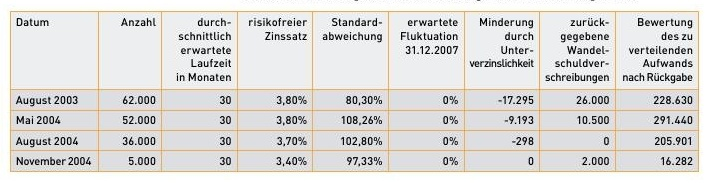table: (0, 0, 710, 183)
